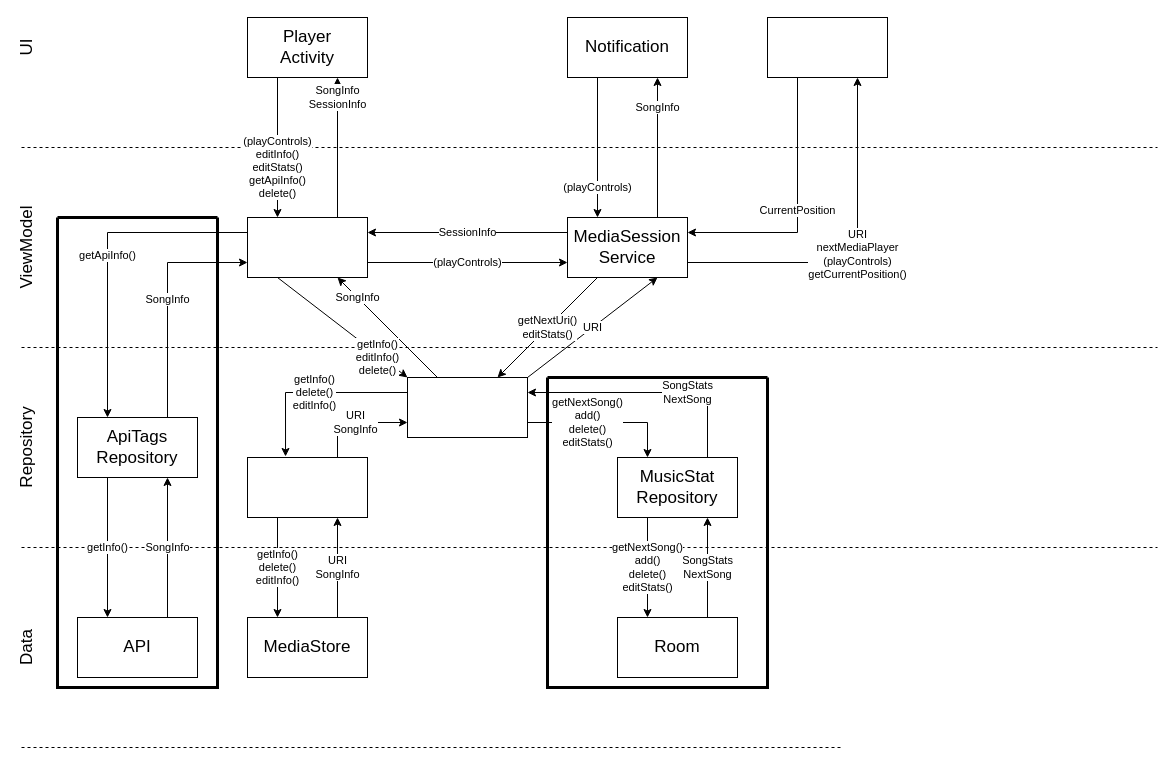
Image size: 1176x766. Some labels were removed from this diagram. The shapes that lost their labels are listed below. From the top down, each one's centre as x and y in pixels, then its label:
(827,47): MediaPlayer
(307,247): Activity Mediacontroller ViewModel
(467,407): Music Repository
(307,487): File Repository
